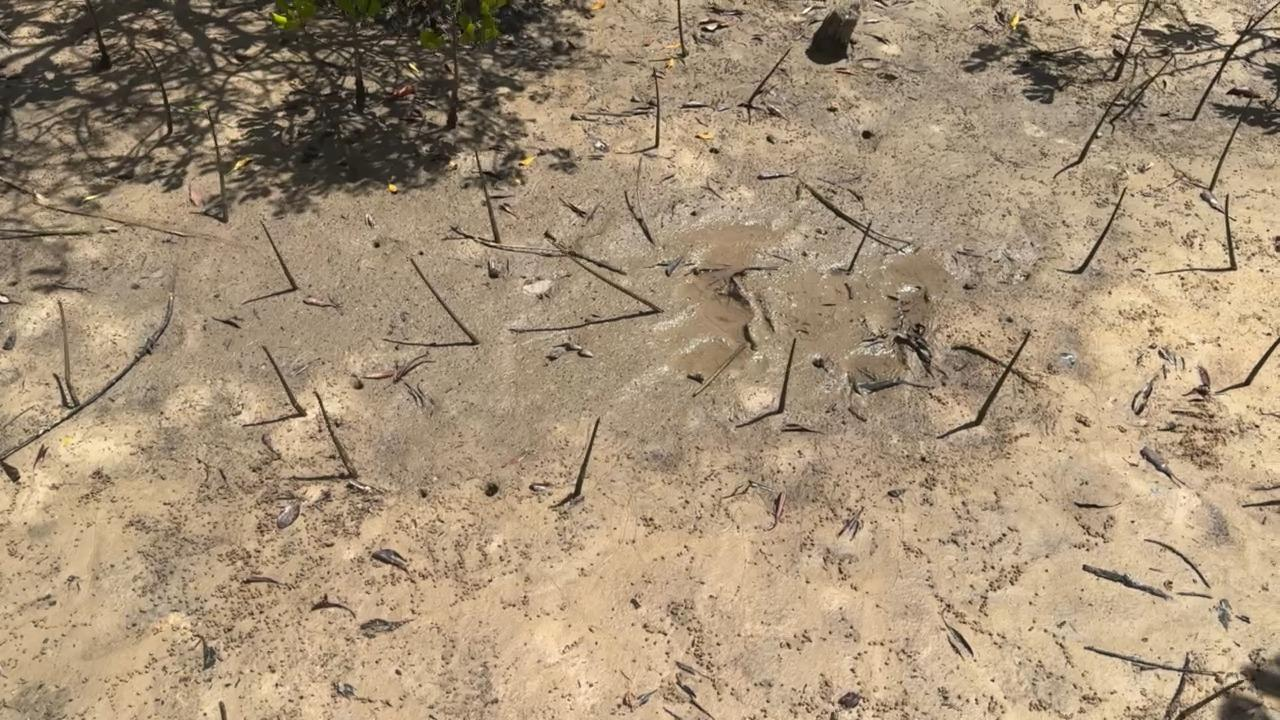Tree: (268, 0, 382, 114), (418, 0, 507, 128), (547, 237, 664, 313), (1191, 15, 1254, 121), (410, 258, 480, 345), (975, 329, 1031, 425), (1108, 56, 1174, 123), (1079, 186, 1129, 273), (1208, 98, 1254, 192), (311, 390, 359, 478), (1078, 85, 1128, 163), (261, 345, 308, 417), (1223, 1, 1280, 60), (139, 46, 173, 136), (259, 219, 299, 290), (1113, 0, 1148, 79), (56, 299, 81, 405), (475, 150, 502, 244), (206, 108, 228, 222), (747, 48, 792, 103), (1180, 679, 1244, 716), (572, 417, 601, 497), (84, 0, 112, 69), (1244, 337, 1280, 385), (778, 337, 797, 413), (1224, 191, 1238, 270), (652, 65, 660, 148), (677, 0, 686, 54), (0, 460, 20, 482), (218, 700, 226, 720)
